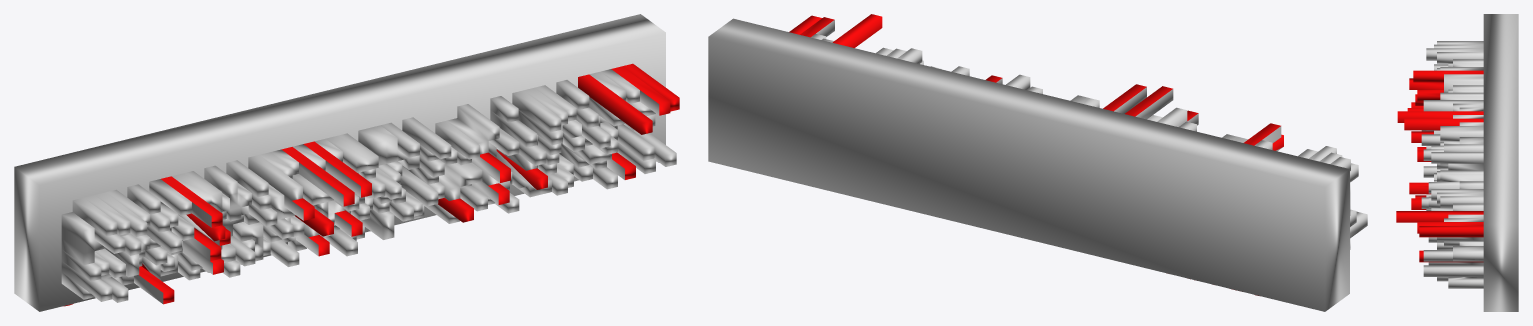
File: 3DRX-2024.glb
The picture shows the model from 3 angles, left to right: view 1: azimuth 30°, elevation 25°; view 2: azimuth 150°, elevation 25°; view 3: azimuth 270°, elevation 25°; orthographic projection. The views are drawn at different scales.
Bounding box in the file's own units: 142 × 28.5 × 35.
